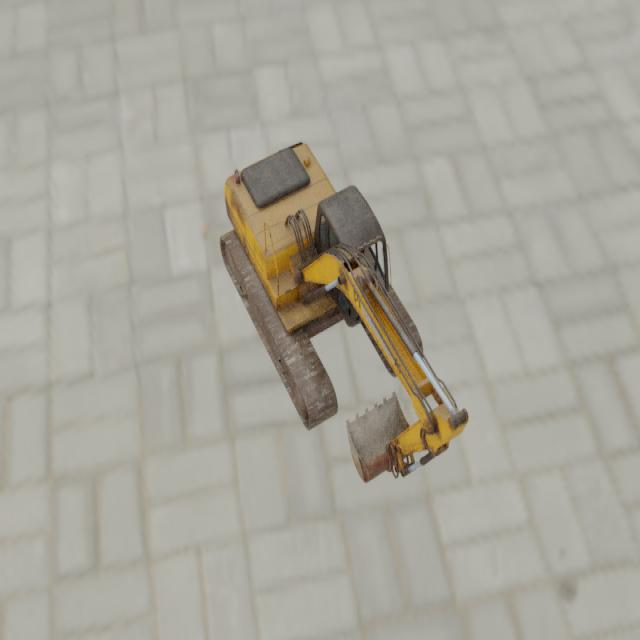excavator: (218, 141, 469, 483)
